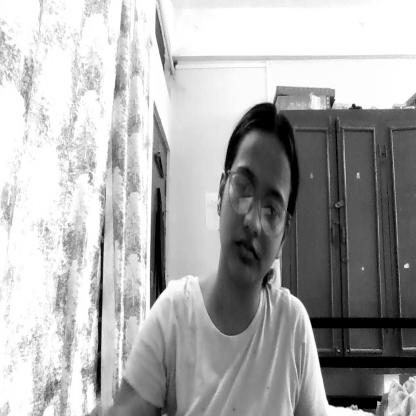Normal: (226, 109, 287, 283)
